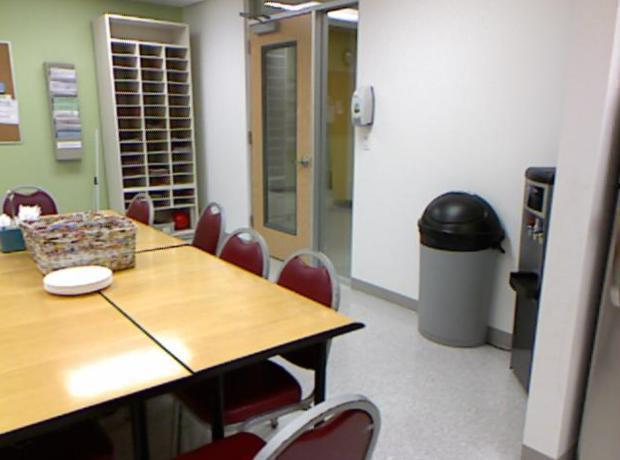Bote de Basura: (411, 186, 506, 353)
